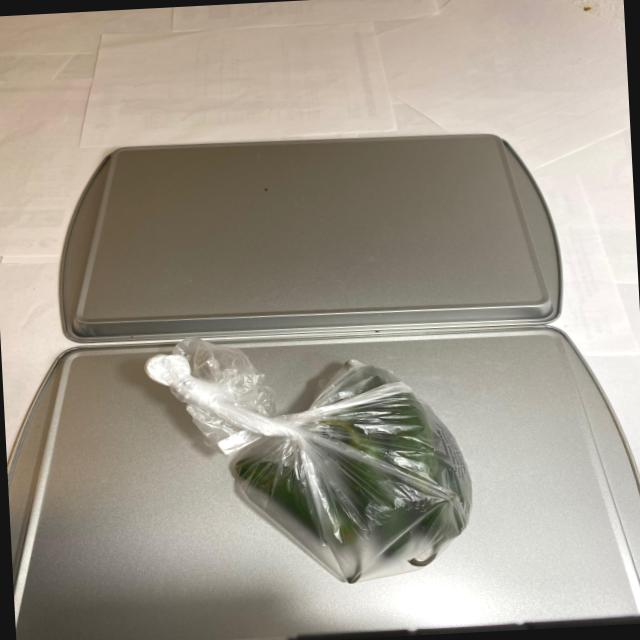chilli: (232, 358, 476, 591)
